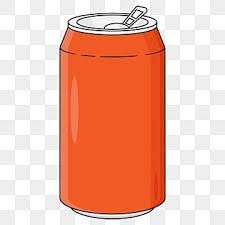can: (59, 8, 169, 221)
